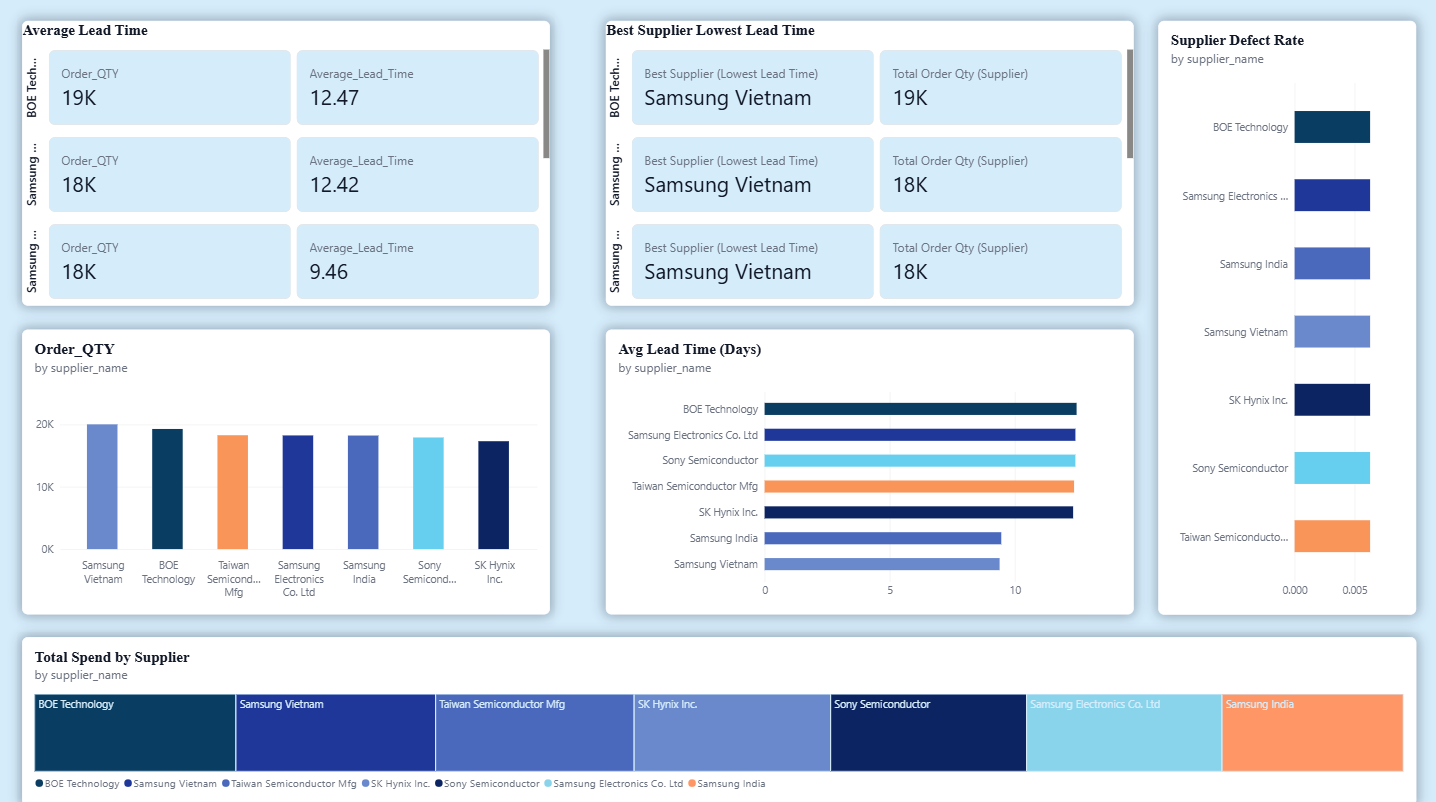

This screenshot's page, from the dashboard's own definition file:
{"tool":"powerbi","page":{"name":"Supplier","canvas":[1920,1080],"ordinal":1},"visuals":[{"type":"cardVisual","title":"Average Lead Time","fields":{"Data":["Measure.Order_QTY","Measure.Average_Lead_Time"],"Rows":["dim_supplier.supplier_name"]},"box":[34,32,704,380],"z":0},{"type":"clusteredColumnChart","fields":{"Category":["dim_supplier.supplier_name"],"Y":["Measure.Order_QTY"]},"box":[34,444,704,380],"z":1000},{"type":"clusteredBarChart","fields":{"Category":["dim_supplier.supplier_name"],"Y":["Measure.Avg Lead Time (Days)"]},"box":[812,444,704,380],"z":2000},{"type":"cardVisual","title":"Best Supplier Lowest Lead Time","fields":{"Data":["Measure.Best Supplier (Lowest Lead Time)","Measure.Total Order Qty (Supplier)"],"Rows":["dim_supplier.supplier_name"]},"box":[812,32,704,380],"z":3000},{"type":"treemap","fields":{"Group":["dim_supplier.supplier_name"],"Values":["Measure.Total Spend by Supplier"]},"box":[33.1,854,1858.9,226.4],"z":4000},{"type":"clusteredBarChart","fields":{"Category":["dim_supplier.supplier_name"],"Y":["Measure.Supplier Defect Rate"]},"box":[1548,32,344,792],"z":5000}]}

Visuals, with their boxes in screenshot pixels (x1, y1, x2, y2), scaled from the page's 1920x1080 canvas onto the 1436x802 screenshot:
"Average Lead Time" cardVisual: {"left": 25, "top": 24, "right": 552, "bottom": 306}
clusteredColumnChart - dim_supplier.supplier_name x Measure.Order_QTY: {"left": 25, "top": 330, "right": 552, "bottom": 612}
clusteredBarChart - dim_supplier.supplier_name x Measure.Avg Lead Time (Days): {"left": 607, "top": 330, "right": 1134, "bottom": 612}
"Best Supplier Lowest Lead Time" cardVisual: {"left": 607, "top": 24, "right": 1134, "bottom": 306}
treemap - dim_supplier.supplier_name x Measure.Total Spend by Supplier: {"left": 25, "top": 634, "right": 1415, "bottom": 801}
clusteredBarChart - dim_supplier.supplier_name x Measure.Supplier Defect Rate: {"left": 1158, "top": 24, "right": 1415, "bottom": 612}
